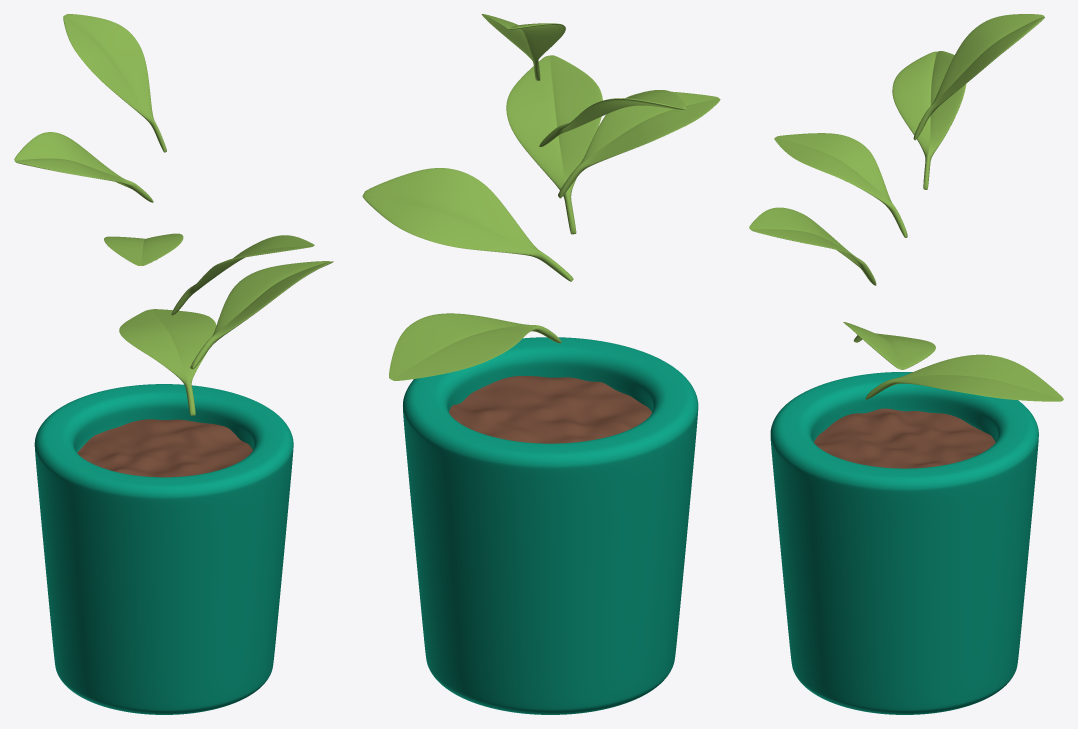
The model's file is Growth_step1.fbx.
3 views of the same model, side by side, from view 1: azimuth 30°, elevation 25°; view 2: azimuth 150°, elevation 25°; view 3: azimuth 270°, elevation 25° (orthographic). The views are drawn at different scales.
Parts seen in each view (by area): view 1: 円柱, 平面, 平面.001; view 2: 円柱, 平面, 平面.001; view 3: 円柱, 平面, 平面.001.
Part boxes in pixels (<box>): 円柱: <box>34,384,293,714</box>; 平面: <box>14,14,333,415</box>; 平面.001: <box>77,419,252,477</box>; 円柱: <box>403,337,698,714</box>; 平面: <box>362,14,720,380</box>; 平面.001: <box>449,376,651,443</box>; 円柱: <box>770,372,1038,714</box>; 平面: <box>749,14,1063,401</box>; 平面.001: <box>814,408,995,468</box>.
Bounding box in the file's own units: 2.63 × 5.17 × 2.3.
